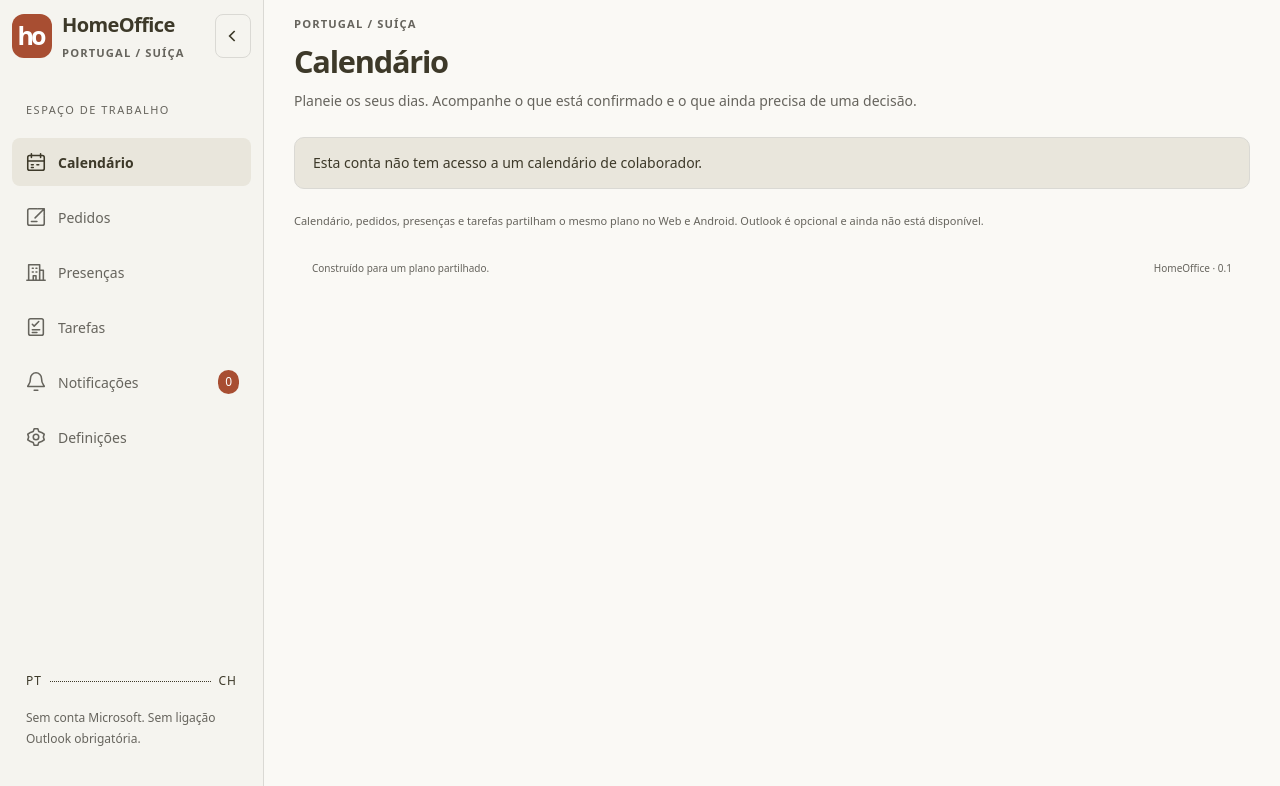
Test: workspace shell › recovers from an API failure through the real retry control
Click the button "Definições" at (132, 437), box [12,413,251,461]
(page scrolled)
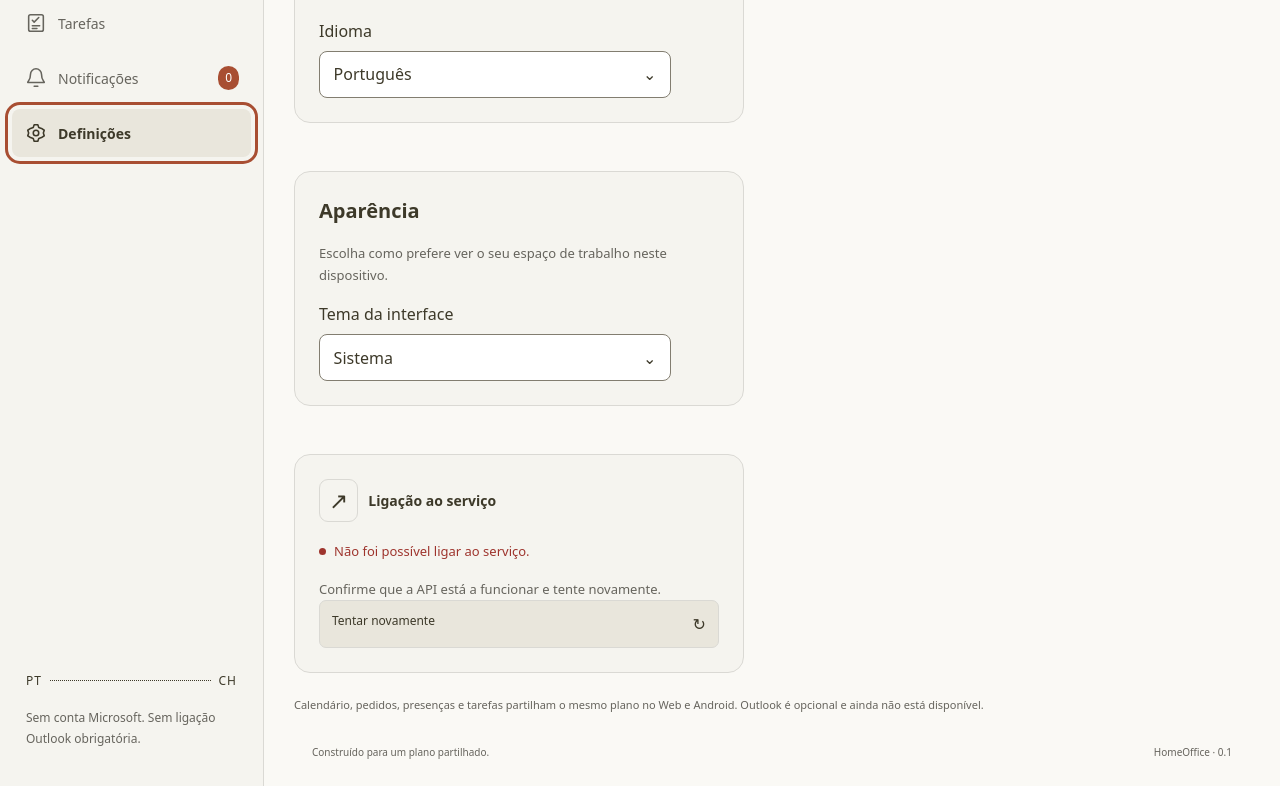
Check: the text "Não foi possível ligar ao serviço." is shown, box [319,542,530,560]
Click the button "Tentar novamente ↻" at (383, 621), box [319,600,719,648]
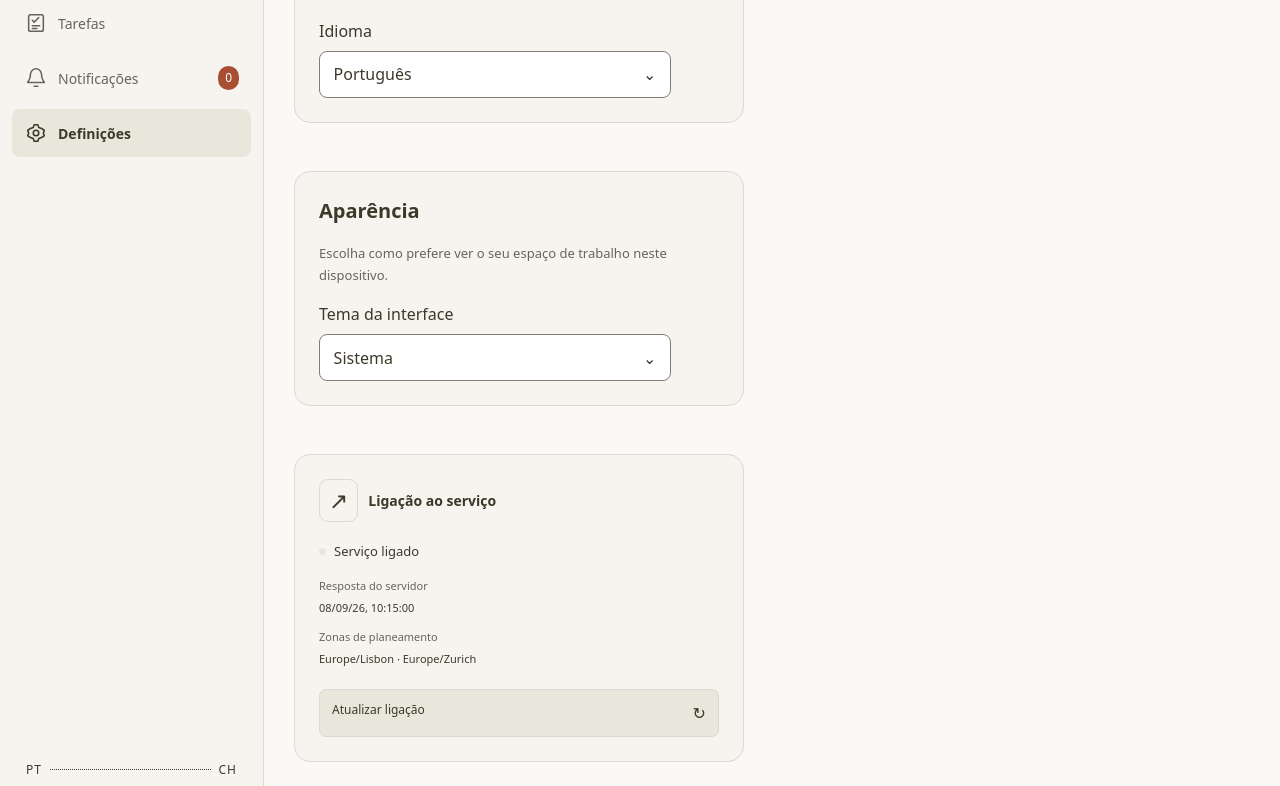
Check: the text "Serviço ligado" is shown, box [319,542,419,560]
Check: the text "Europe/Lisbon · Europe/Zurich" is shown, box [319,651,476,666]
